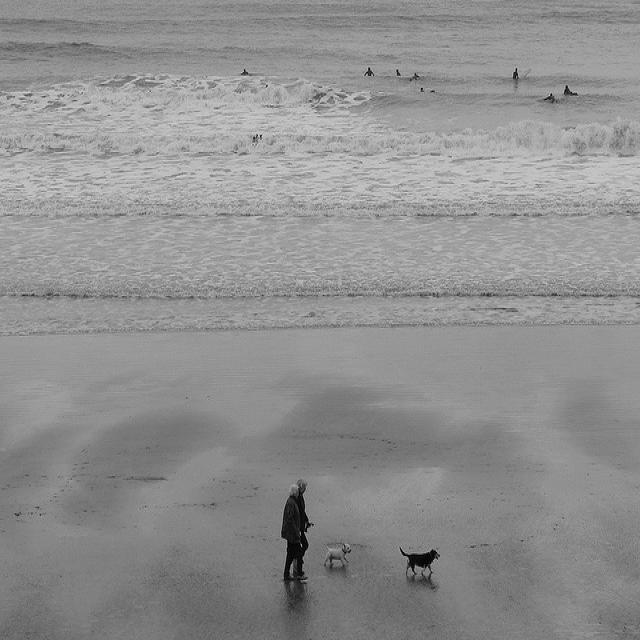monkey: (280, 485, 308, 581), (293, 477, 315, 579), (564, 85, 578, 96), (364, 66, 374, 77), (545, 93, 555, 103), (410, 73, 419, 81), (513, 67, 519, 78), (241, 69, 248, 75), (256, 134, 260, 144), (396, 69, 401, 76), (419, 87, 425, 92)
